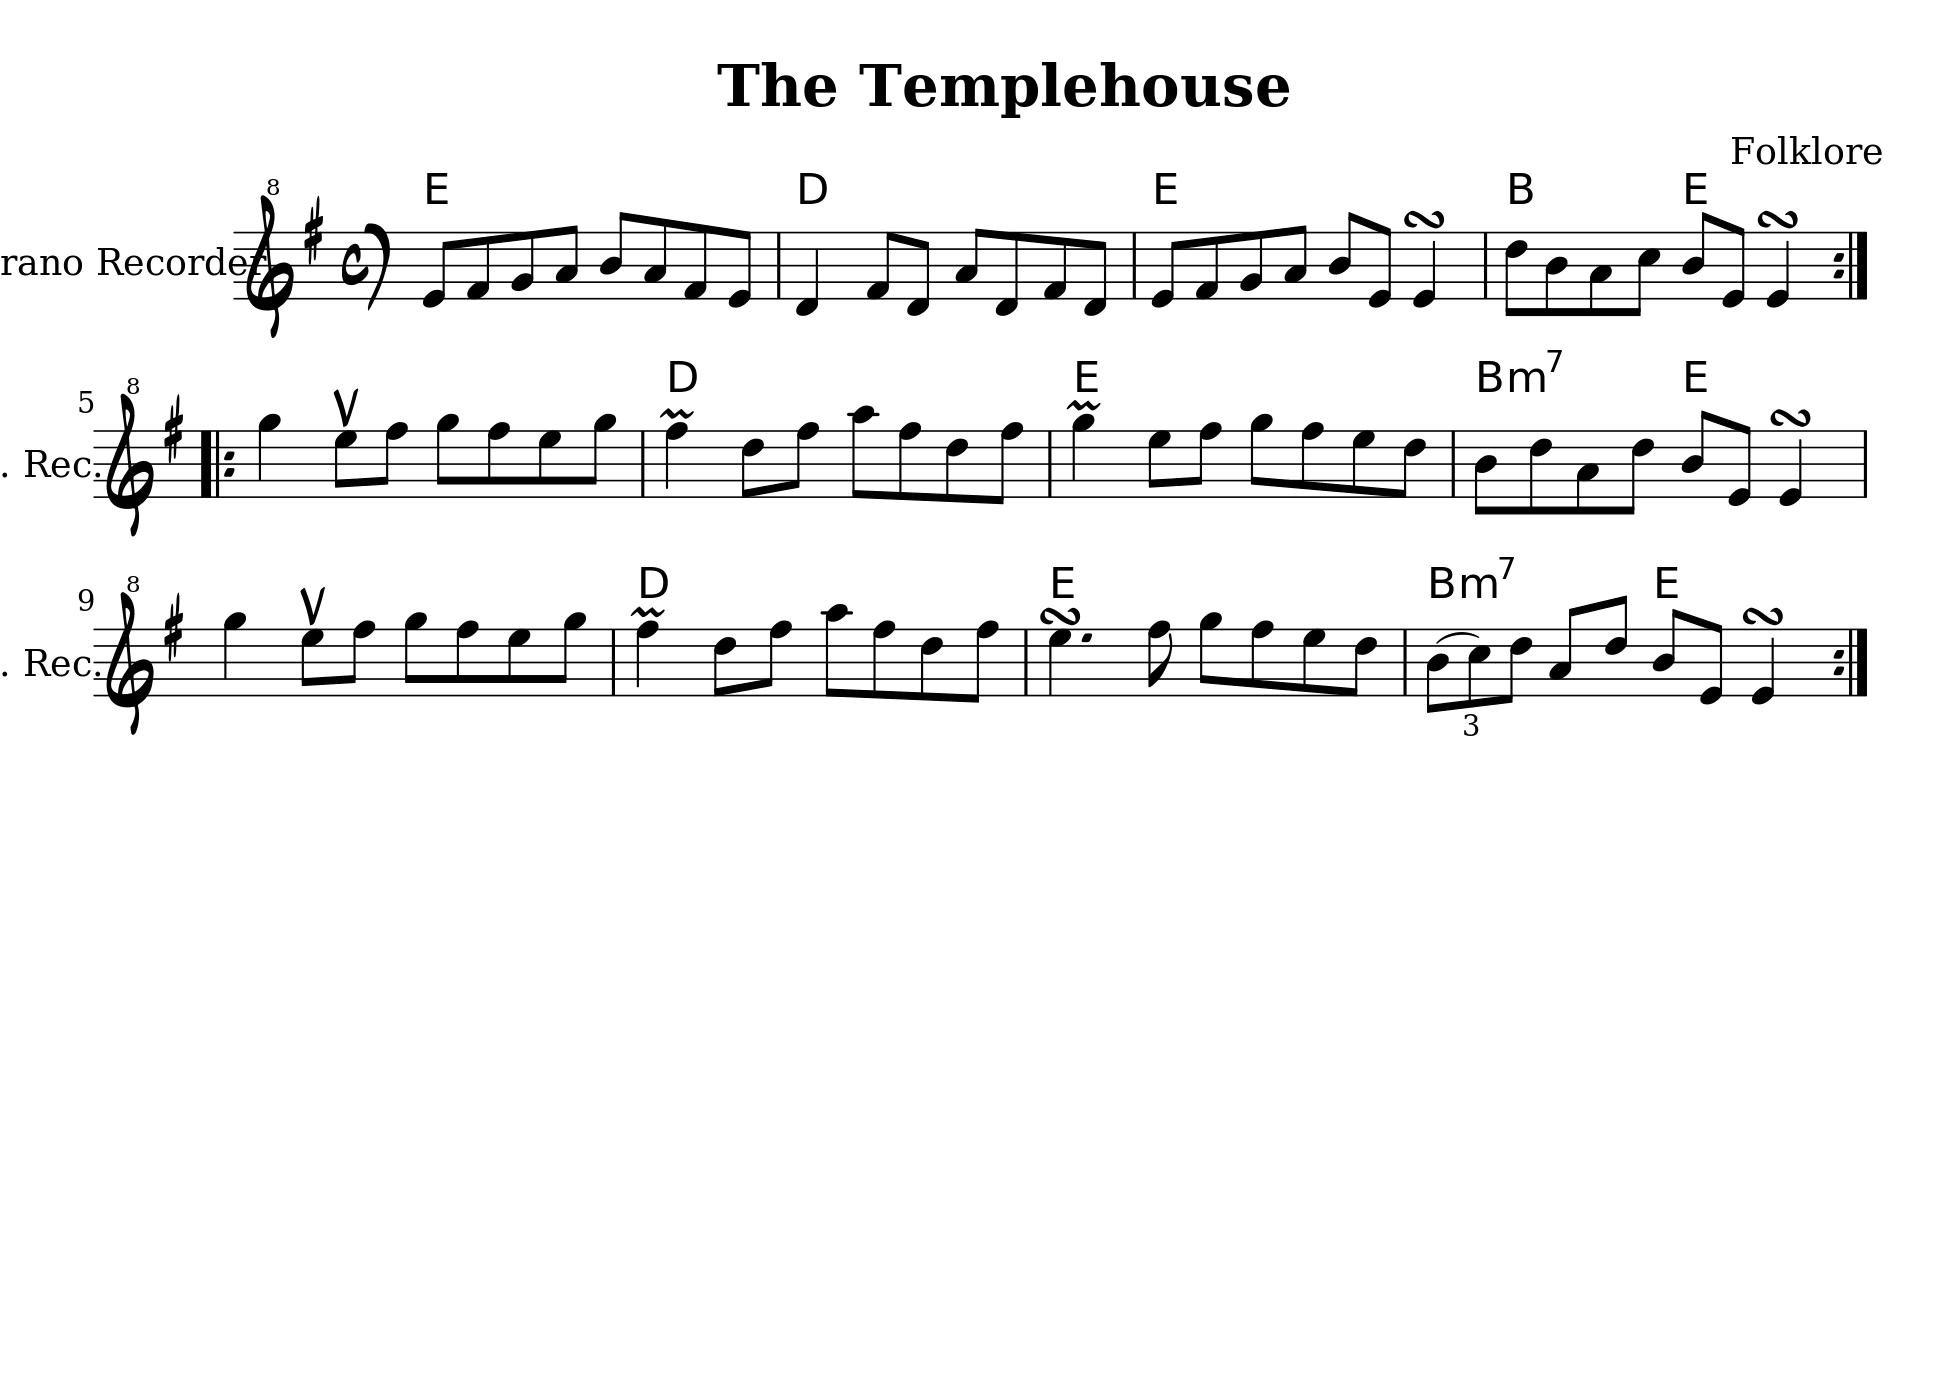3: (1459, 709, 1482, 739)
4_-1: (792, 229, 820, 318)
4_0: (1749, 625, 1779, 708), (1764, 229, 1792, 310), (1777, 427, 1806, 508), (1411, 229, 1438, 309)
4_7: (1047, 627, 1074, 697)
4_8: (633, 618, 660, 699), (661, 420, 688, 499)
4_9: (220, 609, 247, 697), (1069, 412, 1096, 499), (256, 411, 280, 499)
5: (76, 387, 94, 415)
7: (1497, 552, 1516, 580), (1545, 346, 1563, 373)
8: (265, 175, 280, 196)
8_-1: (993, 229, 1021, 318), (1081, 229, 1110, 318), (904, 229, 931, 319)
8_0: (1149, 229, 1183, 310), (420, 229, 453, 310), (724, 226, 754, 310), (1366, 223, 1395, 310), (1698, 619, 1725, 708), (1720, 223, 1747, 310), (1726, 421, 1753, 508)
8_1: (864, 229, 897, 301), (681, 220, 709, 303), (463, 229, 492, 301), (1041, 229, 1069, 301), (1194, 229, 1221, 301)
8_10: (823, 601, 850, 699), (850, 403, 877, 499)
8_2: (508, 228, 535, 301), (1239, 228, 1266, 301)
8_3: (1548, 604, 1581, 699), (952, 226, 987, 301), (640, 216, 670, 301), (1587, 229, 1614, 318), (1575, 427, 1600, 516), (1282, 223, 1309, 301), (553, 223, 579, 301)
8_4: (1327, 210, 1362, 301), (598, 210, 631, 301), (1680, 408, 1713, 499), (1681, 210, 1713, 301), (1651, 606, 1683, 697), (1542, 229, 1570, 318), (1473, 427, 1500, 517), (1425, 627, 1449, 715)
8_5: (1629, 229, 1662, 316), (1467, 625, 1491, 709)
8_6: (1621, 427, 1656, 517), (1603, 592, 1629, 697), (1345, 625, 1380, 699), (1503, 229, 1530, 319), (1527, 427, 1554, 517), (1395, 427, 1428, 499), (1503, 627, 1533, 705), (943, 427, 969, 504), (918, 627, 943, 703), (739, 427, 765, 499), (711, 627, 736, 699)
8_7: (535, 427, 562, 499), (1146, 427, 1173, 499), (1350, 427, 1377, 499), (505, 625, 532, 697), (333, 427, 358, 499), (298, 627, 324, 697), (1300, 627, 1326, 697)
8_8: (964, 618, 1000, 703), (990, 420, 1024, 505), (787, 420, 820, 499), (760, 619, 793, 697), (376, 420, 408, 499), (1191, 420, 1222, 499), (343, 619, 375, 697), (895, 420, 922, 502), (1146, 619, 1174, 697), (484, 420, 511, 499), (1299, 420, 1326, 499), (870, 619, 895, 700), (454, 619, 480, 699), (1249, 619, 1275, 697)
8_9: (552, 610, 586, 697), (583, 412, 616, 499), (433, 412, 460, 499), (1248, 412, 1275, 499), (402, 610, 429, 697), (1197, 610, 1224, 697)
9: (76, 585, 94, 613)
High_Gclef: (103, 375, 154, 540), (246, 175, 295, 339), (105, 573, 154, 735)
LeftRepeatSign: (196, 429, 235, 498)
Rec: (19, 447, 94, 480), (19, 646, 94, 678), (94, 244, 165, 277)
RightRepeatSign: (1833, 229, 1872, 300), (1833, 627, 1872, 696)
Sharp: (301, 193, 325, 265), (162, 391, 186, 463), (162, 591, 184, 661)
ShortTrill: (630, 601, 667, 619), (1066, 396, 1102, 412)
Single_barline: (1857, 427, 1875, 499), (604, 628, 622, 694), (1018, 627, 1035, 696), (634, 430, 651, 496), (1042, 430, 1059, 496), (771, 231, 786, 298), (1128, 231, 1143, 298), (1479, 231, 1494, 298), (1398, 628, 1413, 696), (1446, 430, 1461, 496)
Slur: (1437, 628, 1479, 645)
TimeSig: (340, 228, 370, 300)
Tremolo_bar: (330, 385, 360, 427), (298, 583, 328, 625)
Turn: (1767, 405, 1813, 429), (1740, 603, 1786, 627), (1755, 205, 1800, 229), (1036, 603, 1084, 625), (1401, 208, 1447, 229), (658, 405, 696, 421)
dot: (1080, 628, 1095, 643)
